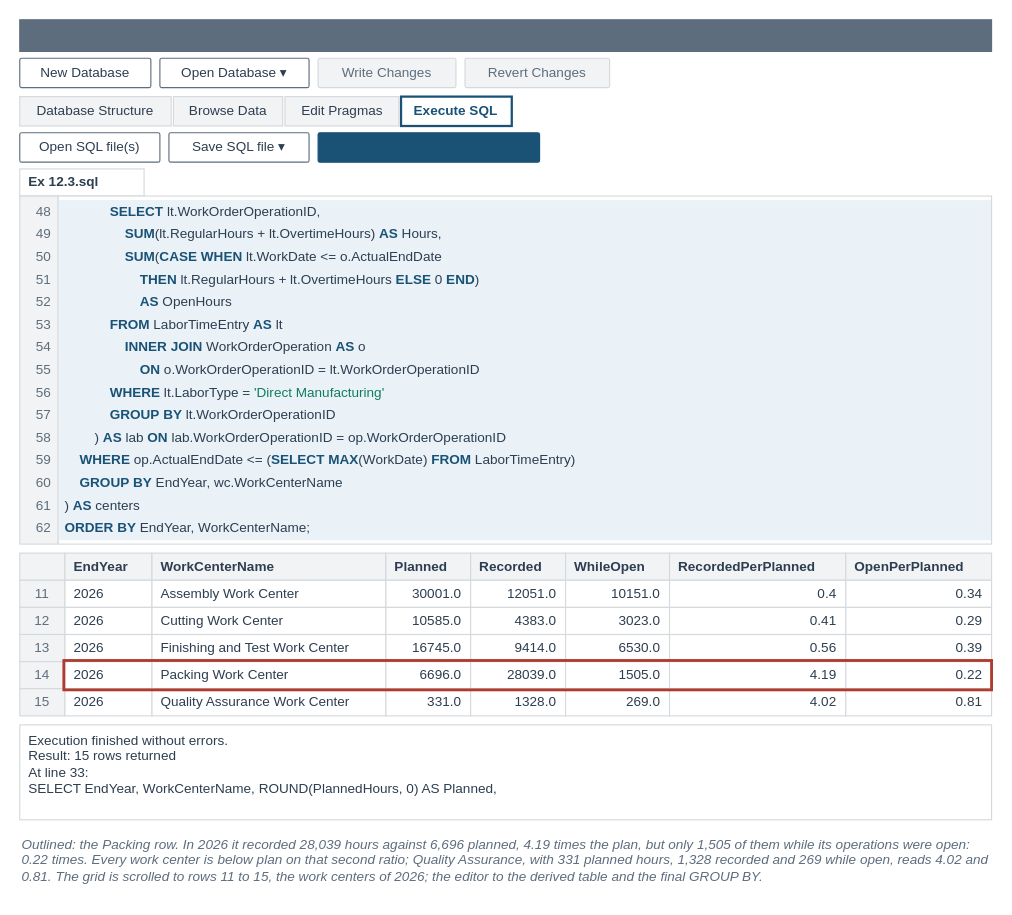
This 1012x915 diagram has some shape labels left out. Here are the shapes that lost their labels. From the top down, the box of each, then its label:
(19, 19, 992, 51): DB Browser for SQLite - C:\Users\you\Documents\CharlesRiver_Work.sqlite
(317, 132, 540, 162): ▶ Execute all/selected SQL
